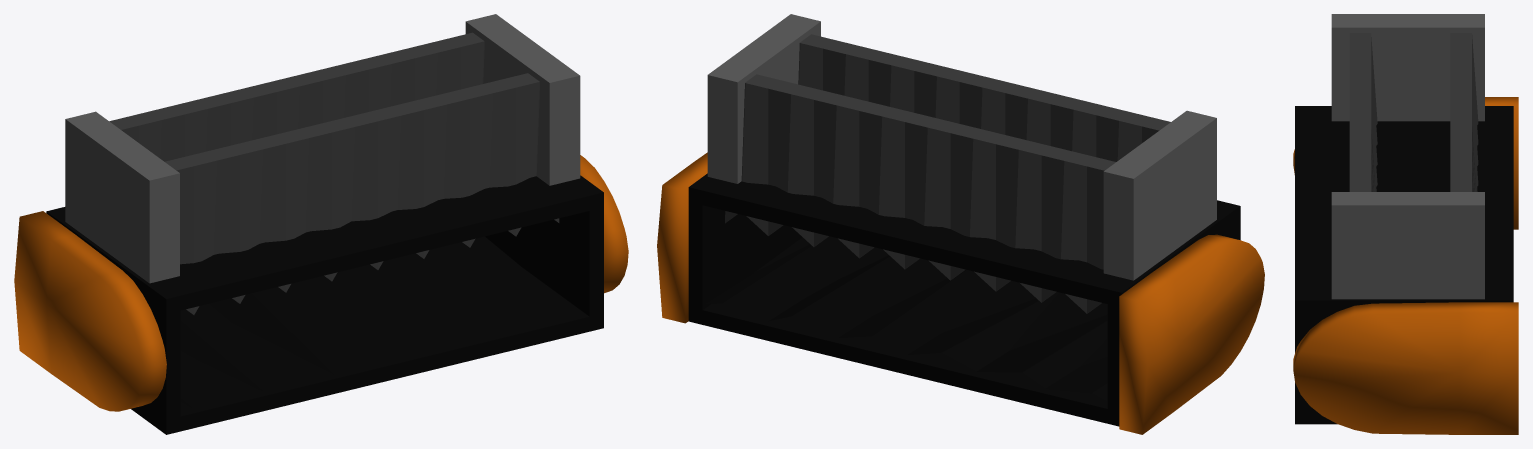
File: Frank_V1.fbx
The picture shows the model from 3 angles, left to right: view 1: azimuth 30°, elevation 25°; view 2: azimuth 150°, elevation 25°; view 3: azimuth 270°, elevation 25°; orthographic projection. The views are drawn at different scales.
Visible parts, largest first — view 1: Frank_Mouth, Teeth_Front, EngineMount, Rails, BottomPlate, Teeth_Back; view 2: Frank_Mouth, Teeth_Back, EngineMount, BottomPlate, Rails, Teeth_Front; view 3: Rails, EngineMount, Frank_Mouth, Teeth_Front, Teeth_Back.
Boxes of the visible parts, left/top/right/bottom form: Frank_Mouth: left=46, top=175, right=603, bottom=434; Teeth_Front: left=164, top=73, right=559, bottom=314; EngineMount: left=14, top=155, right=628, bottom=411; Rails: left=65, top=14, right=580, bottom=283; BottomPlate: left=180, top=236, right=564, bottom=406; Teeth_Back: left=109, top=32, right=484, bottom=161; Frank_Mouth: left=688, top=173, right=1240, bottom=426; Teeth_Back: left=725, top=74, right=1115, bottom=313; EngineMount: left=657, top=152, right=1264, bottom=434; BottomPlate: left=705, top=236, right=1107, bottom=401; Rails: left=707, top=14, right=1216, bottom=280; Teeth_Front: left=798, top=34, right=1170, bottom=161; Rails: left=1331, top=14, right=1484, bottom=299; EngineMount: left=1293, top=97, right=1518, bottom=434; Frank_Mouth: left=1295, top=106, right=1513, bottom=424; Teeth_Front: left=1349, top=33, right=1377, bottom=191; Teeth_Back: left=1450, top=33, right=1478, bottom=191.
Bounding box in the file's own units: 3.48 × 1.6 × 1.5.
